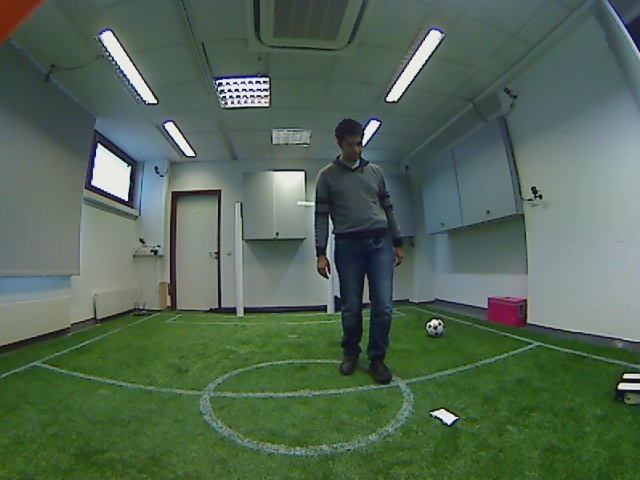ball: (422, 315, 448, 342)
